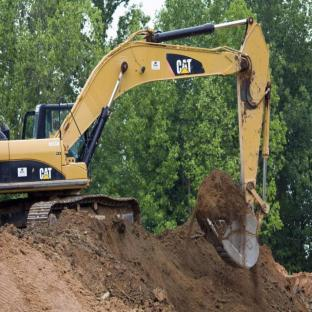ExcavationMachinery: (4, 16, 292, 268)
